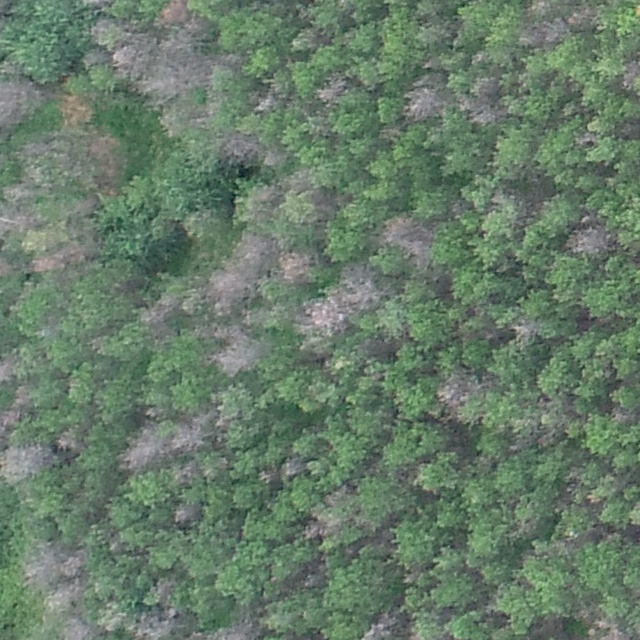unhealthy: (206, 237, 269, 315), (138, 37, 212, 103), (21, 539, 84, 589), (336, 261, 384, 315), (375, 215, 433, 256), (209, 338, 267, 376), (0, 75, 38, 129), (121, 425, 166, 470), (1, 442, 51, 482), (109, 33, 154, 77), (298, 293, 346, 334), (402, 79, 446, 121), (129, 608, 178, 640), (168, 416, 208, 455), (566, 223, 612, 256), (435, 370, 472, 409), (277, 249, 315, 286), (219, 131, 261, 164), (138, 292, 177, 327), (516, 21, 564, 48), (360, 609, 403, 639), (459, 99, 504, 127), (0, 206, 39, 237), (45, 582, 83, 613), (315, 71, 348, 104), (211, 619, 260, 640), (301, 515, 343, 539), (89, 19, 124, 46), (94, 602, 126, 630), (565, 5, 598, 32), (59, 616, 96, 640), (1, 180, 37, 204), (55, 241, 91, 265), (157, 0, 190, 26), (78, 44, 110, 70), (0, 405, 24, 439), (209, 321, 246, 343), (28, 250, 65, 272), (54, 427, 85, 453), (620, 54, 640, 93), (150, 575, 177, 603), (470, 74, 501, 97), (250, 89, 277, 114), (170, 502, 198, 526), (173, 459, 199, 484), (512, 318, 540, 341), (69, 195, 98, 217), (262, 144, 288, 168), (279, 455, 304, 479), (0, 352, 17, 387), (597, 621, 627, 639), (610, 406, 637, 425), (574, 129, 598, 147), (576, 605, 596, 623), (0, 255, 14, 279)
